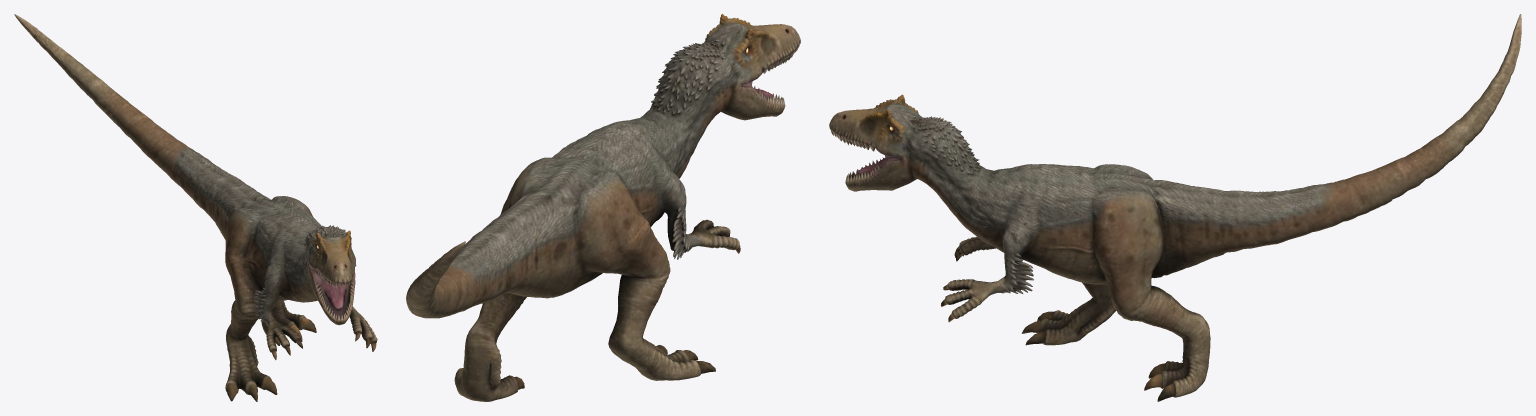
The model's file is MZ4250 - Allosaurus 2025.glb.
3 renders of one model, left to right at view 1: azimuth 30°, elevation 25°; view 2: azimuth 150°, elevation 25°; view 3: azimuth 270°, elevation 25°, orthographic. The views are drawn at different scales.
Parts seen in each view (by area): view 1: ORGANIC BASE SPHERE.001; view 2: ORGANIC BASE SPHERE.001; view 3: ORGANIC BASE SPHERE.001.
Part boxes in pixels (box(x1,y1,x2,y2)): ORGANIC BASE SPHERE.001: box(14, 14, 377, 401); ORGANIC BASE SPHERE.001: box(406, 14, 800, 401); ORGANIC BASE SPHERE.001: box(829, 14, 1521, 401).
Bounding box in the file's own units: 65.94 × 102 × 213.
1 material, 1 textured.
